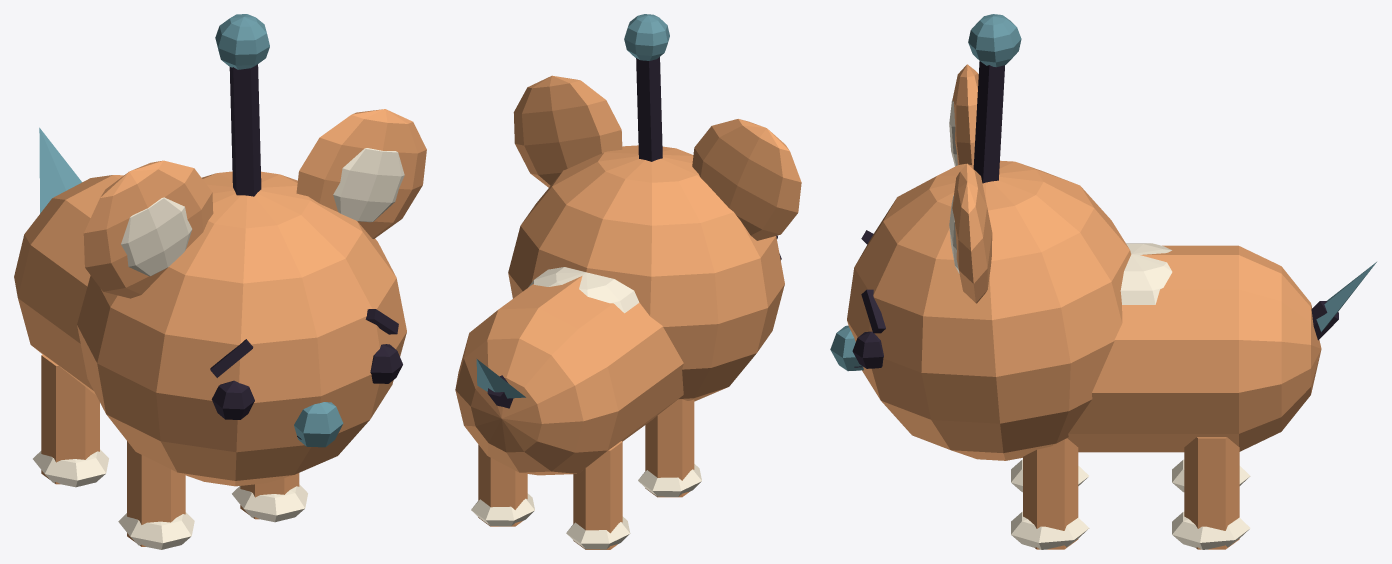
File: bean-cave-2.glb
3 renders of one model, left to right at view 1: azimuth 30°, elevation 25°; view 2: azimuth 150°, elevation 25°; view 3: azimuth 270°, elevation 25°, orthographic. The views are drawn at different scales.
Parts seen in each view (by area): view 1: bean-cave-2; view 2: bean-cave-2; view 3: bean-cave-2.
Part boxes in pixels (x1,y1,x2,y2): bean-cave-2: [14, 14, 426, 549]; bean-cave-2: [455, 14, 801, 549]; bean-cave-2: [830, 14, 1376, 549].
Size of the model in its own units: 0.5965 by 0.8766 by 0.8749.
